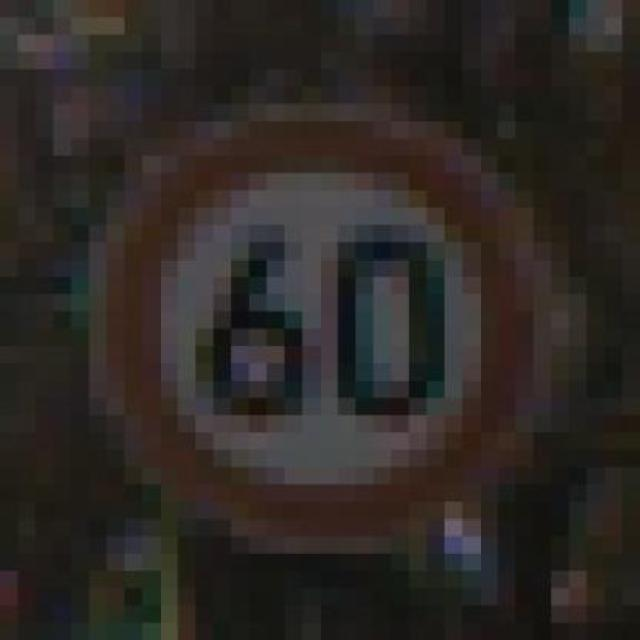forb_speed_over_60: (89, 116, 526, 533)
